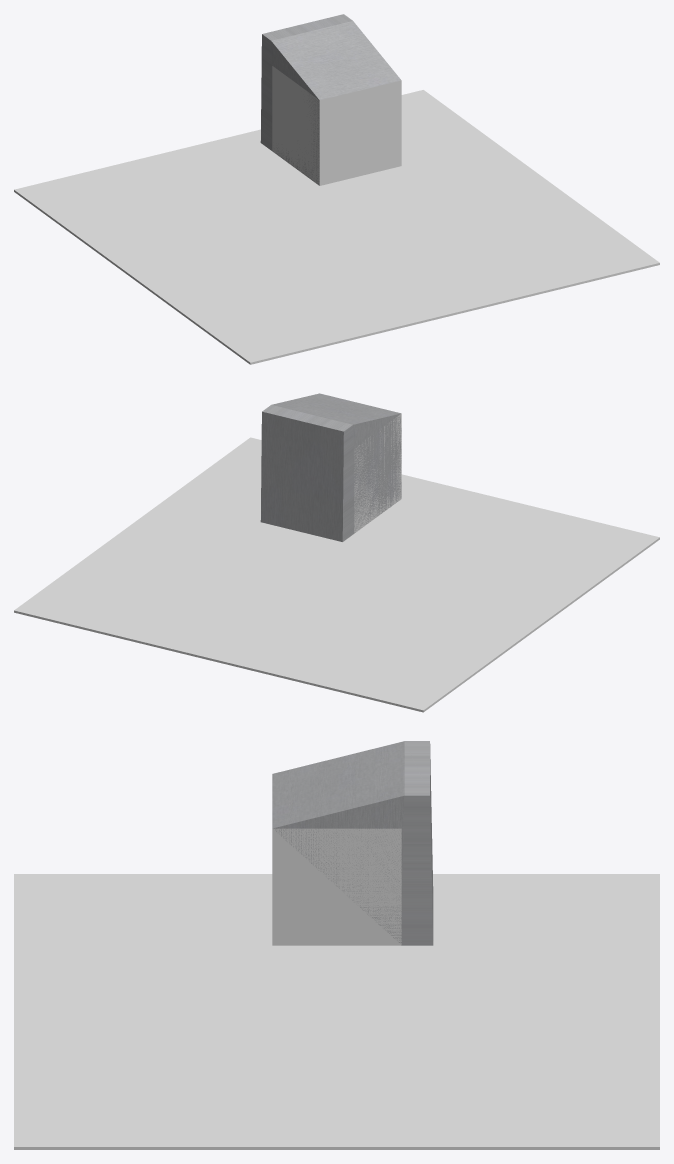
Rendered from simple14.glb.
3 views of the same model, one above another, from view 1: azimuth 30°, elevation 25°; view 2: azimuth 150°, elevation 25°; view 3: azimuth 270°, elevation 25° (orthographic). The views are drawn at different scales.
Visible parts, largest first — view 1: Coll_Gound.001, Coll_Cube.001, Cube; view 2: Coll_Gound.001, Cube, Coll_Cube.001; view 3: Coll_Gound.001, Cube, Coll_Cube.001.
Part boxes in pixels (x1=…): Coll_Gound.001: x1=14, y1=90, x2=659, y2=364; Coll_Cube.001: x1=272, y1=66, x2=401, y2=185; Cube: x1=260, y1=14, x2=400, y2=185; Coll_Gound.001: x1=14, y1=437, x2=659, y2=712; Cube: x1=260, y1=393, x2=401, y2=541; Coll_Cube.001: x1=354, y1=413, x2=401, y2=533; Coll_Gound.001: x1=14, y1=874, x2=659, y2=1149; Cube: x1=272, y1=741, x2=433, y2=945; Coll_Cube.001: x1=272, y1=828, x2=401, y2=945.
Size of the model in its own units: 10 by 4.19 by 10.
Materials: 1 (1 with a texture image).
